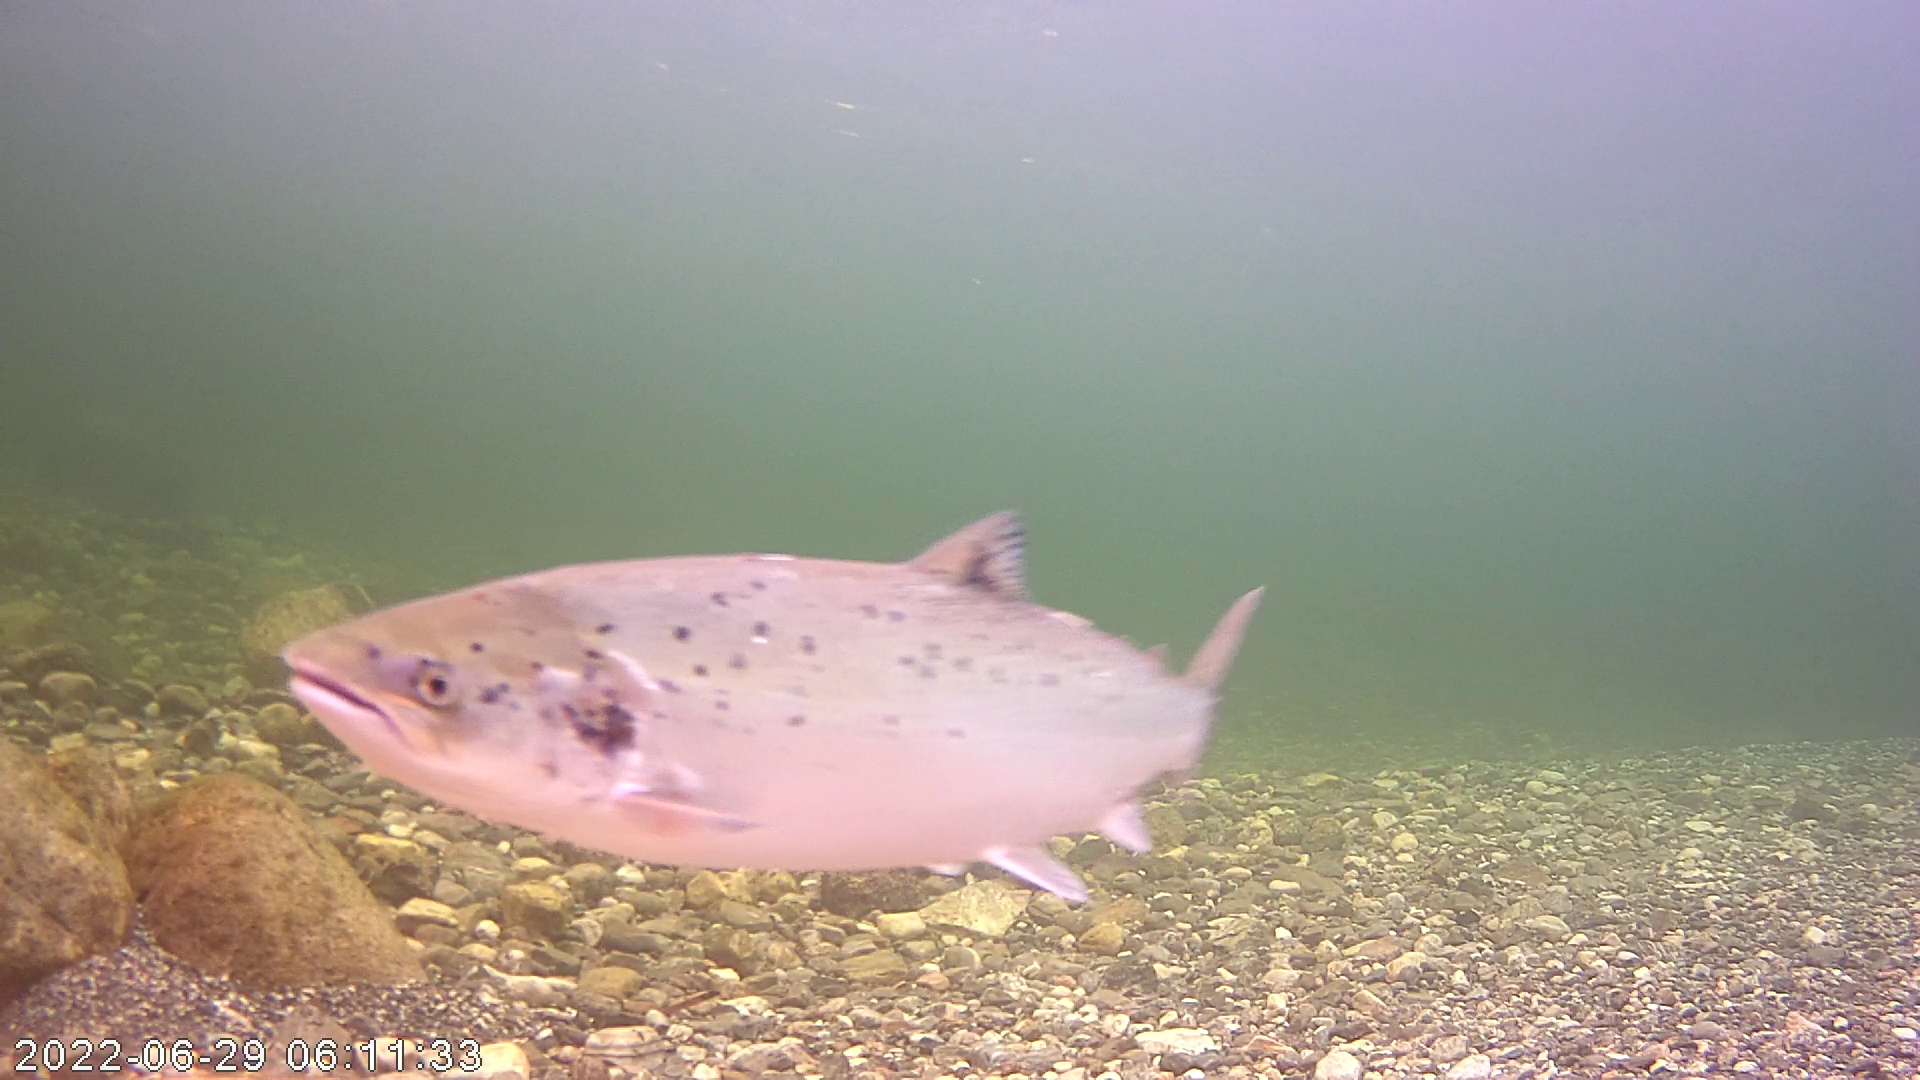salmon: (277, 446, 1255, 913)
